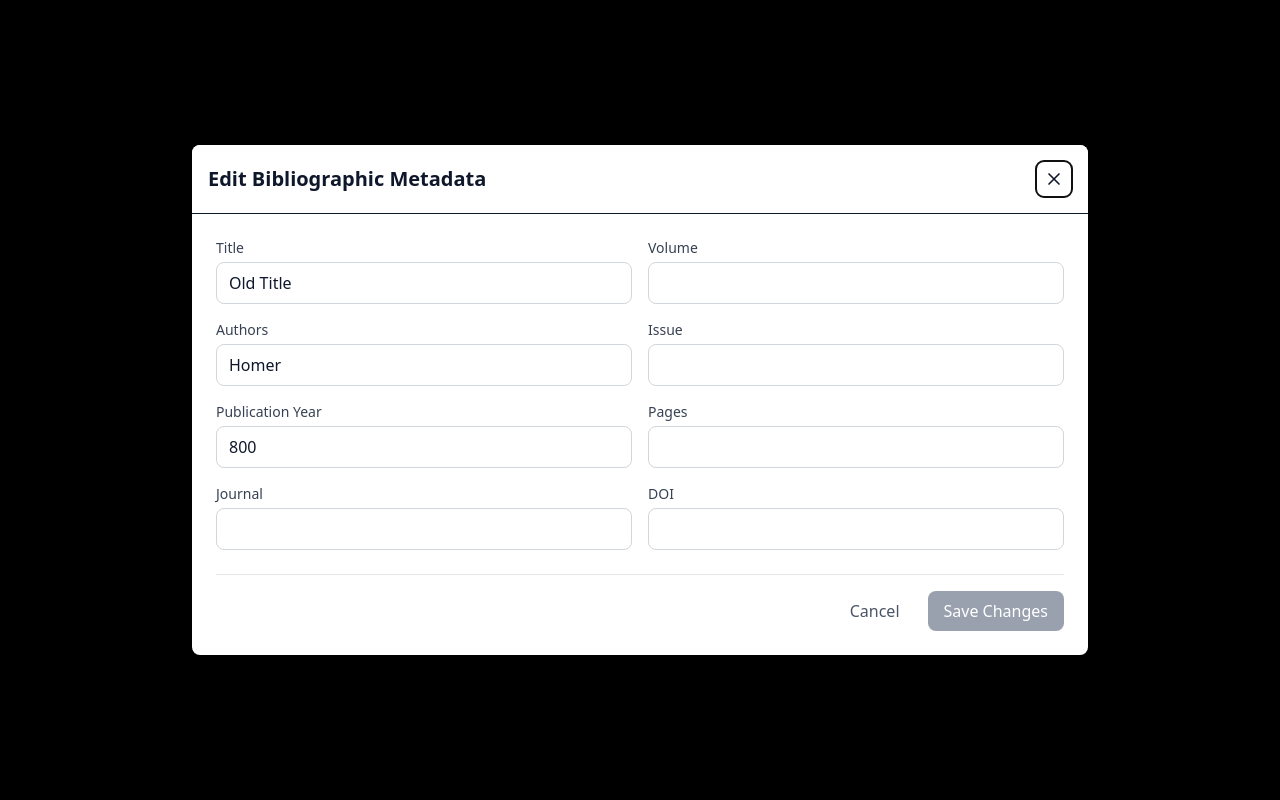
Scenario: MetadataEditorModal › disables save until a change is made, then calls onSave
The width and height of the screenshot is (1280, 800).
Later steps or results of the test are not shown.
expect the button "Save Changes" is disabled: met, box [928, 591, 1064, 631]
Replace the text in the field showing "Old Title" below "Title" with "New Title": x=424, y=283 [216, 262, 632, 304]
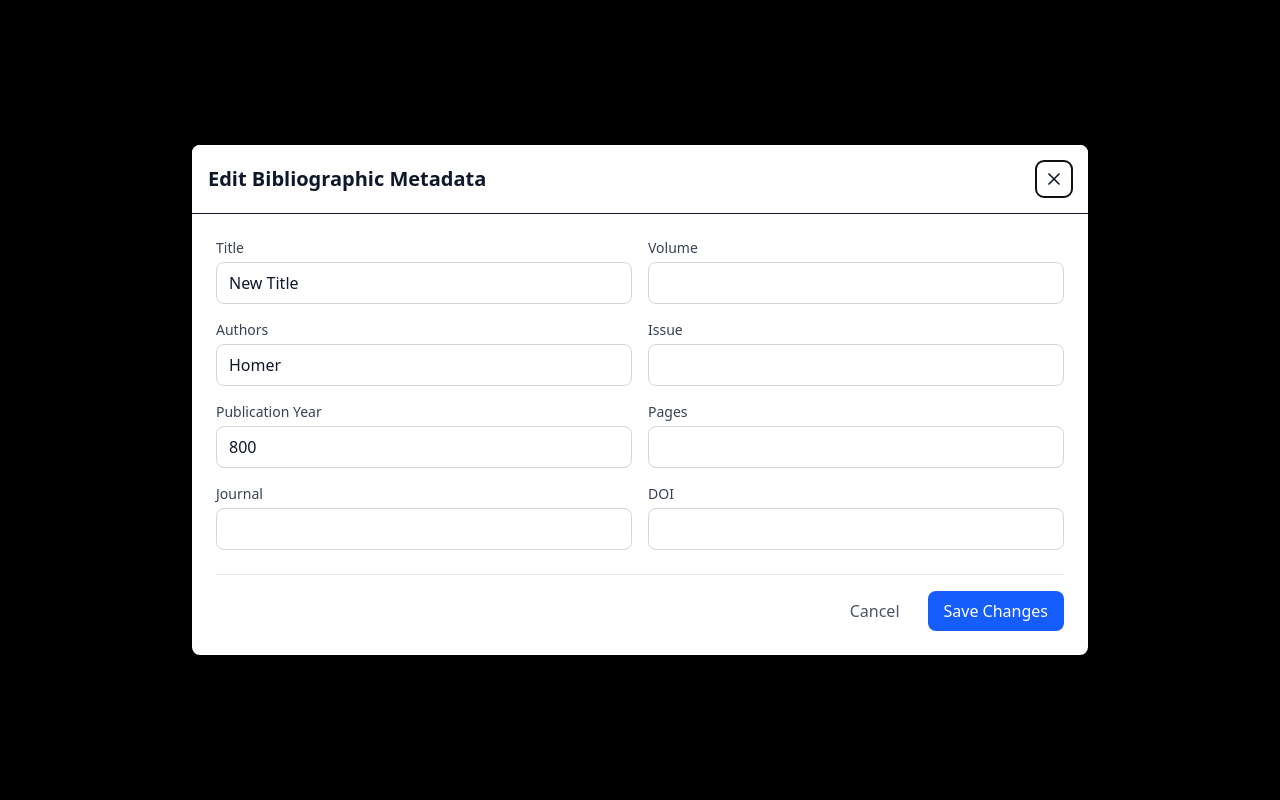
expect the button "Save Changes" is enabled: met, box [928, 591, 1064, 631]
